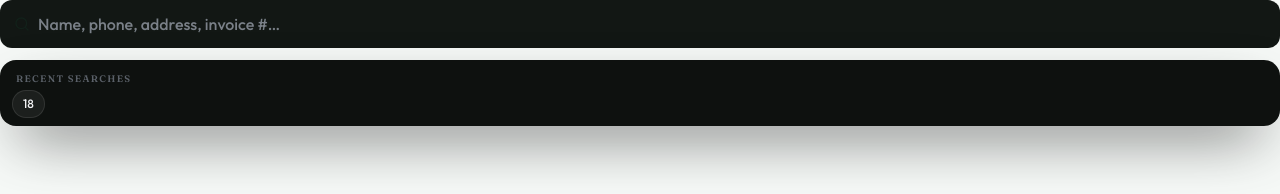
UniversalSearch (embedded / mobile) › shows a connection error instead of 'No matches' when search fails
In the search field named "Search records": x=652, y=24 x1=38 y1=12 x2=1266 y2=36, type "334701"
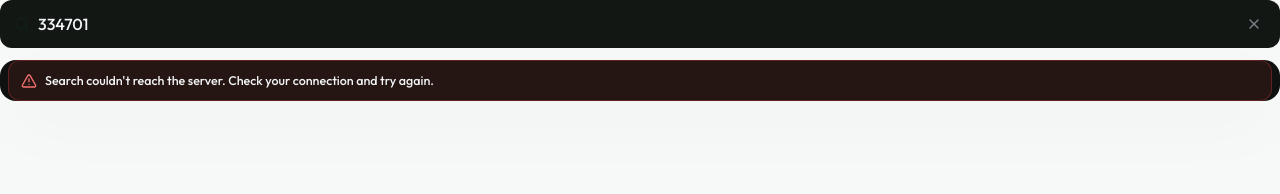
Check: the message shows "couldn't reach", box x1=45 y1=72 x2=434 y2=88
